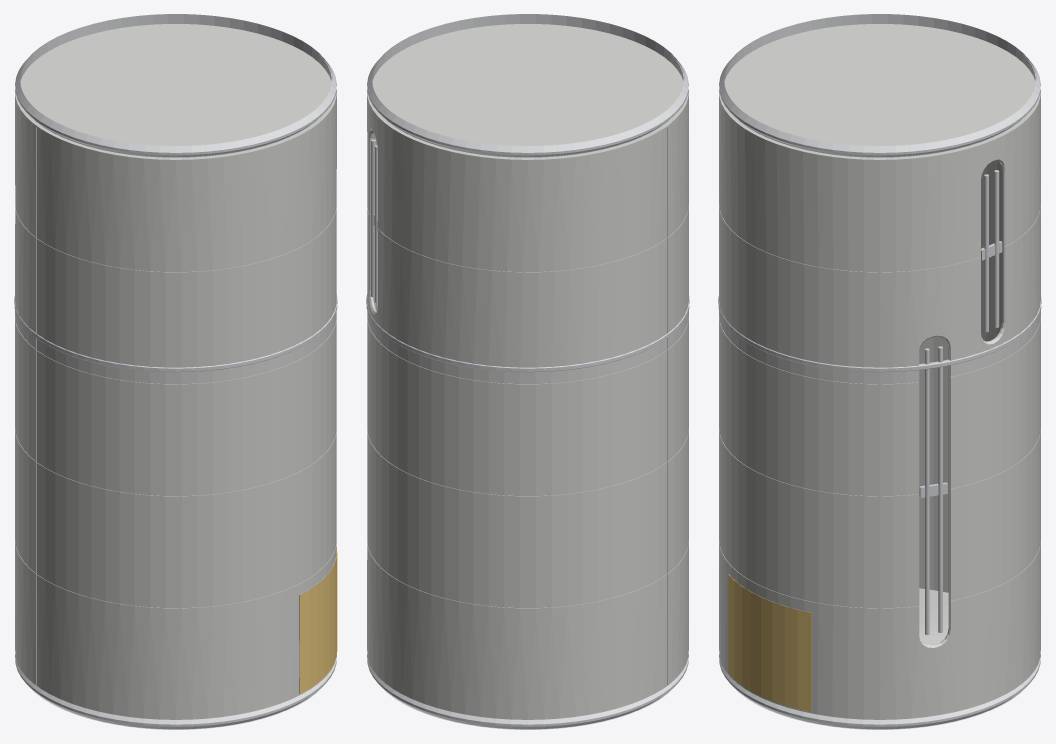
The model's file is ax_tank_03_heavy_methalox_xl_medium.glb.
3 views of the same model, side by side, from view 1: azimuth 30°, elevation 25°; view 2: azimuth 150°, elevation 25°; view 3: azimuth 270°, elevation 25° (orthographic).
Visible parts, largest first — view 1: tank_barrel, dome_caps, end_rings, mli_patch, common_bulkhead_ring; view 2: tank_barrel, dome_caps, end_rings, common_bulkhead_ring, raceway_lines; view 3: tank_barrel, dome_caps, end_rings, mli_patch, raceway_lines, common_bulkhead_ring.
Boxes of the visible parts, bbox=[...] form: tank_barrel: bbox=[15, 90, 336, 719]; dome_caps: bbox=[20, 24, 331, 157]; end_rings: bbox=[15, 14, 336, 729]; mli_patch: bbox=[299, 547, 337, 693]; common_bulkhead_ring: bbox=[14, 294, 337, 372]; tank_barrel: bbox=[367, 90, 688, 719]; dome_caps: bbox=[372, 24, 683, 157]; end_rings: bbox=[367, 14, 688, 729]; common_bulkhead_ring: bbox=[366, 294, 689, 372]; raceway_lines: bbox=[371, 139, 377, 309]; tank_barrel: bbox=[719, 90, 1040, 719]; dome_caps: bbox=[724, 24, 1035, 644]; end_rings: bbox=[719, 14, 1040, 729]; mli_patch: bbox=[728, 574, 811, 711]; raceway_lines: bbox=[919, 170, 1002, 634]; common_bulkhead_ring: bbox=[718, 296, 1041, 372].
Size of the model in its own units: 5.02 by 10 by 5.02.
